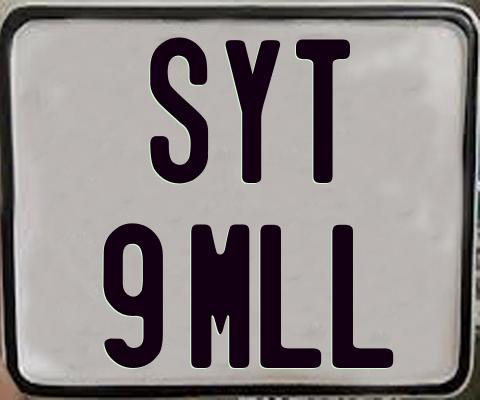9: (102, 222, 162, 373)
L: (332, 222, 397, 366), (257, 222, 320, 370)
M: (191, 222, 256, 367)
S: (149, 36, 208, 187)
T: (294, 38, 350, 184)
Y: (225, 37, 283, 182)
